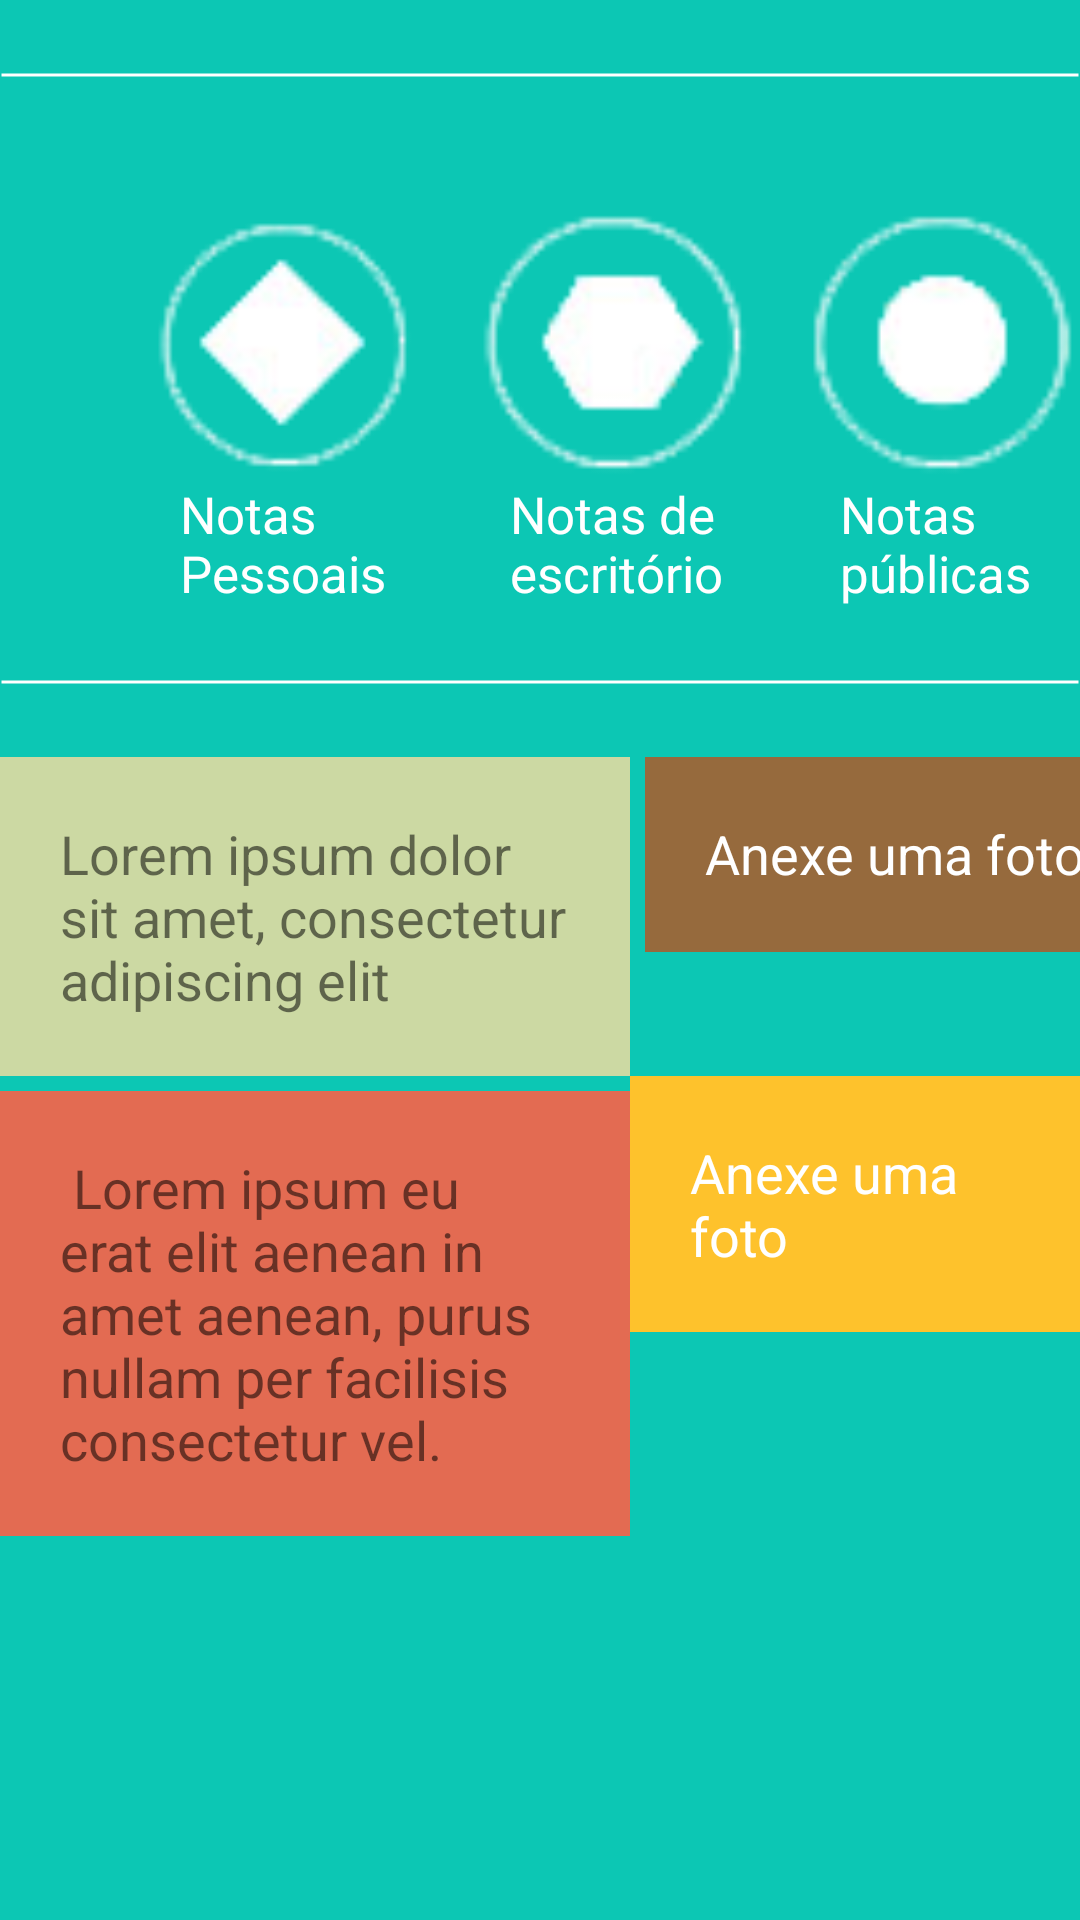

Screen size 1080x1920. Icon name, then its center in pixels as (x=x, y=y):
circulo: (x=942, y=342)
hexagono: (x=613, y=342)
losango: (x=283, y=345)
